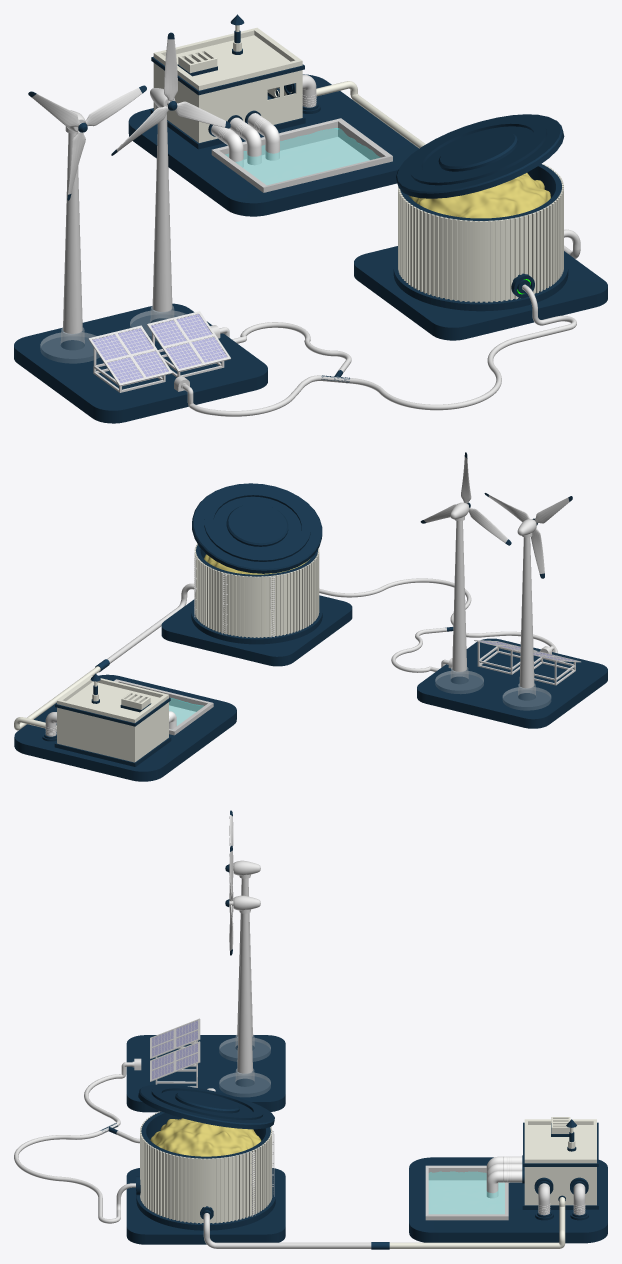
File: BARAMATAHARI.glb
The picture shows the model from 3 angles, top to bottom: view 1: azimuth 30°, elevation 25°; view 2: azimuth 150°, elevation 25°; view 3: azimuth 270°, elevation 25°; orthographic projection. The views are drawn at different scales.
Visible parts, largest first — view 1: Cylinder, Cube.005, Cube.003, Cube.004, Cube, Circle.001, Cube.002, domain, Cylinder.019, Cylinder.020, Cube.001, Cube.012 (+11 smaller); view 2: Cube.005, Circle.001, Cylinder, Cube.003, Cube.004, Cube, Cylinder.019, Cylinder.020, Cube.002, Cube.011, Cube.009, Cylinder.009 (+7 smaller); view 3: Cylinder, Cube.004, Cube.005, Cube.003, Cube, Cube.002, Circle.001, Cylinder.020, Cube.001, domain, Cylinder.009, Cylinder.004 (+6 smaller).
Boxes of the visible parts, bbox=[...] form: Cylinder: bbox=[398, 163, 563, 302]; Cube.005: bbox=[14, 303, 267, 423]; Cube.003: bbox=[150, 14, 305, 149]; Cube.004: bbox=[128, 74, 418, 216]; Cube: bbox=[354, 246, 607, 340]; Circle.001: bbox=[396, 114, 564, 198]; Cube.002: bbox=[211, 118, 392, 192]; domain: bbox=[225, 128, 379, 184]; Cylinder.019: bbox=[40, 133, 99, 363]; Cylinder.020: bbox=[130, 113, 185, 340]; Cube.001: bbox=[409, 173, 550, 218]; Cube.012: bbox=[88, 325, 172, 386]; Cube.005: bbox=[417, 638, 607, 728]; Circle.001: bbox=[192, 483, 322, 573]; Cylinder: bbox=[194, 543, 319, 637]; Cube.003: bbox=[54, 673, 171, 766]; Cube.004: bbox=[14, 674, 236, 781]; Cube: bbox=[161, 595, 352, 666]; Cylinder.019: bbox=[503, 537, 550, 710]; Cylinder.020: bbox=[435, 521, 483, 693]; Cube.002: bbox=[114, 679, 213, 735]; Cube.011: bbox=[484, 493, 572, 578]; Cube.009: bbox=[420, 452, 511, 545]; Cylinder.009: bbox=[14, 659, 109, 730]; Cylinder: bbox=[140, 1111, 272, 1223]; Cube.004: bbox=[409, 1157, 607, 1243]; Cube.005: bbox=[126, 1035, 285, 1112]; Cube.003: bbox=[522, 1117, 598, 1209]; Cube: bbox=[126, 1168, 285, 1244]; Cube.002: bbox=[425, 1165, 508, 1220]; Circle.001: bbox=[138, 1084, 274, 1129]; Cylinder.020: bbox=[219, 913, 270, 1096]; Cube.001: bbox=[150, 1118, 261, 1156]; domain: bbox=[429, 1172, 504, 1213]; Cylinder.009: bbox=[371, 1197, 565, 1249]; Cylinder.004: bbox=[14, 1130, 135, 1223].
Size of what is drawn, in the model's own units: 7.5 by 4.2 by 9.
